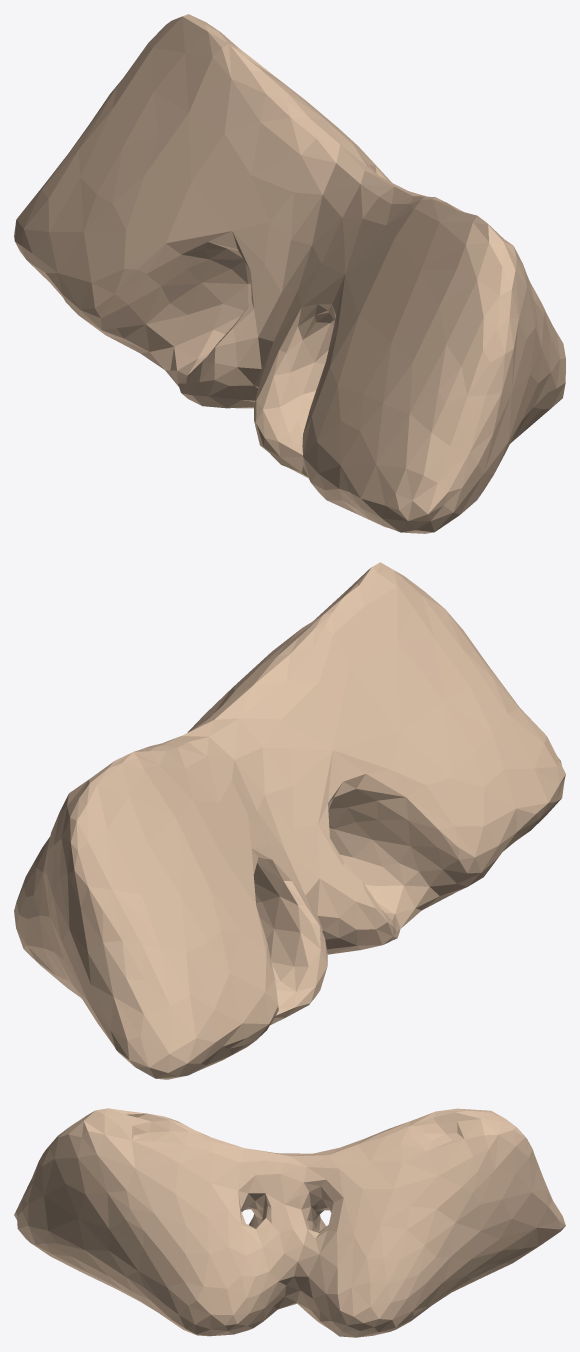
3 renders of one model, top to bottom at view 1: azimuth 30°, elevation 25°; view 2: azimuth 150°, elevation 25°; view 3: azimuth 270°, elevation 25°, orthographic. The views are drawn at different scales.
Parts seen in each view (by area): view 1: 574.obj; view 2: 574.obj; view 3: 574.obj.
Boxes of the visible parts, x1=… form: 574.obj: x1=14, y1=14, x2=565, y2=533; 574.obj: x1=14, y1=562, x2=565, y2=1079; 574.obj: x1=14, y1=1108, x2=565, y2=1337.
Size of the model in its own units: 975 by 956 by 2248.
